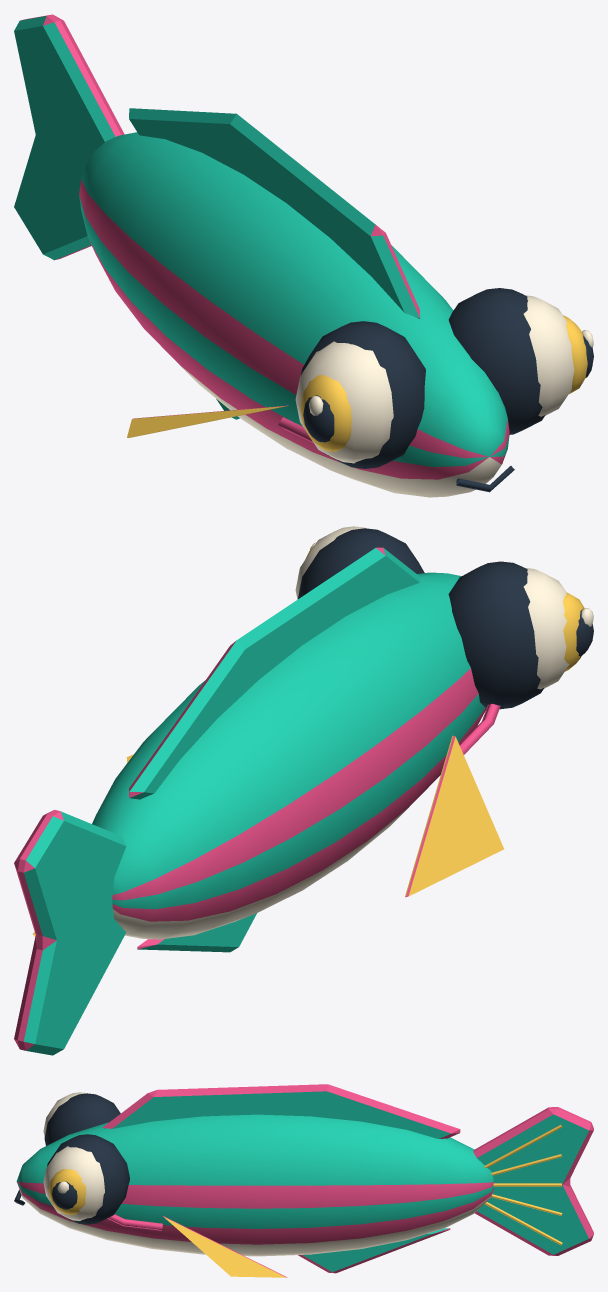
File: wrasse-low.glb
3 views of the same model, one above another, from view 1: azimuth 30°, elevation 25°; view 2: azimuth 150°, elevation 25°; view 3: azimuth 270°, elevation 25° (orthographic). The views are drawn at different scales.
Visible parts, largest first — view 1: BodyMesh, TailMesh; view 2: BodyMesh, TailMesh; view 3: BodyMesh, TailMesh.
Boxes of the visible parts, box(x1,y1,x2,y2) form: BodyMesh: box(79, 108, 593, 497); TailMesh: box(14, 14, 124, 260); BodyMesh: box(92, 526, 593, 952); TailMesh: box(14, 810, 126, 1055); BodyMesh: box(14, 1084, 493, 1277); TailMesh: box(473, 1107, 593, 1255).
Bounding box in the file's own units: 1.25 × 0.9722 × 2.7.
